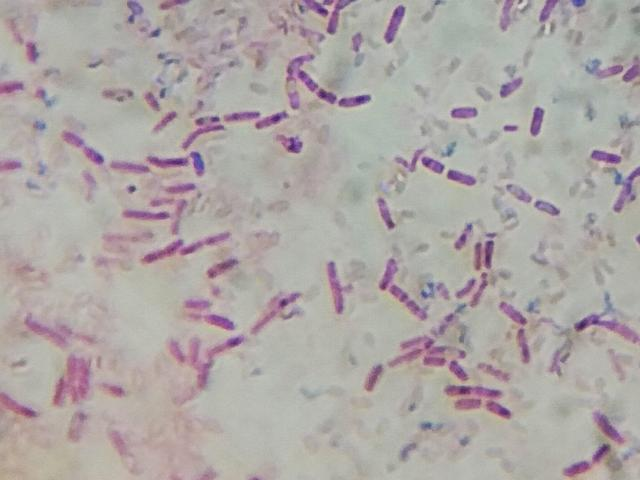E. coli: (254, 291, 302, 334), (0, 385, 45, 427), (577, 312, 635, 341), (325, 256, 351, 317), (21, 312, 67, 343), (610, 168, 640, 214), (186, 229, 237, 256), (64, 128, 101, 164), (511, 324, 538, 368), (392, 286, 425, 321), (384, 4, 407, 46), (595, 410, 623, 444), (183, 127, 226, 149), (212, 334, 248, 360), (186, 311, 235, 330), (497, 0, 521, 37), (208, 258, 243, 282), (144, 240, 181, 262), (254, 106, 286, 131), (378, 196, 400, 232), (525, 103, 549, 136), (498, 296, 526, 323), (447, 383, 500, 397), (501, 73, 528, 100), (123, 206, 163, 224), (452, 99, 480, 124), (171, 194, 188, 235), (108, 432, 131, 462), (74, 359, 91, 399), (339, 89, 373, 109), (193, 357, 214, 389), (285, 50, 317, 71), (224, 106, 256, 126), (66, 409, 85, 442), (453, 219, 472, 252), (99, 380, 125, 404), (449, 164, 477, 186), (108, 158, 144, 175), (0, 151, 23, 177), (506, 179, 531, 202), (421, 153, 443, 179), (564, 457, 590, 479), (22, 36, 43, 63), (4, 78, 32, 98), (288, 74, 302, 114), (153, 110, 177, 133), (378, 259, 399, 285), (365, 361, 381, 395), (51, 375, 69, 405), (588, 146, 618, 164), (181, 331, 197, 364), (329, 2, 345, 35), (534, 195, 558, 217), (472, 279, 489, 310), (297, 69, 321, 90), (587, 440, 612, 460), (483, 238, 497, 273), (488, 401, 513, 420), (188, 294, 215, 311), (193, 149, 210, 176), (391, 350, 418, 367), (401, 335, 433, 349), (536, 0, 556, 22), (594, 62, 621, 78), (166, 181, 199, 194), (306, 0, 328, 19), (479, 359, 505, 375), (151, 154, 180, 168), (315, 87, 337, 105), (169, 338, 184, 364), (624, 59, 640, 83), (449, 357, 467, 378), (457, 277, 474, 299), (145, 91, 161, 114), (502, 119, 521, 138), (162, 0, 186, 15), (435, 345, 464, 357), (65, 352, 76, 381), (196, 111, 220, 124), (474, 239, 484, 268), (424, 357, 445, 367)
